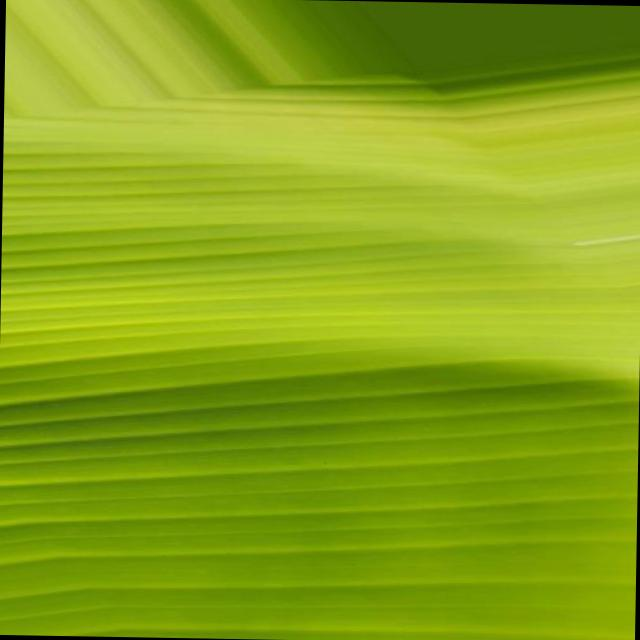Banana_Healthy: (138, 161, 522, 583)
